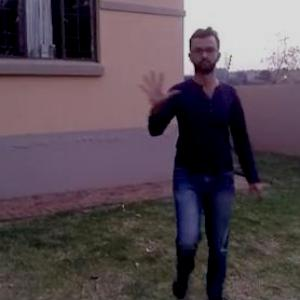follow_hand: (135, 67, 181, 107)
